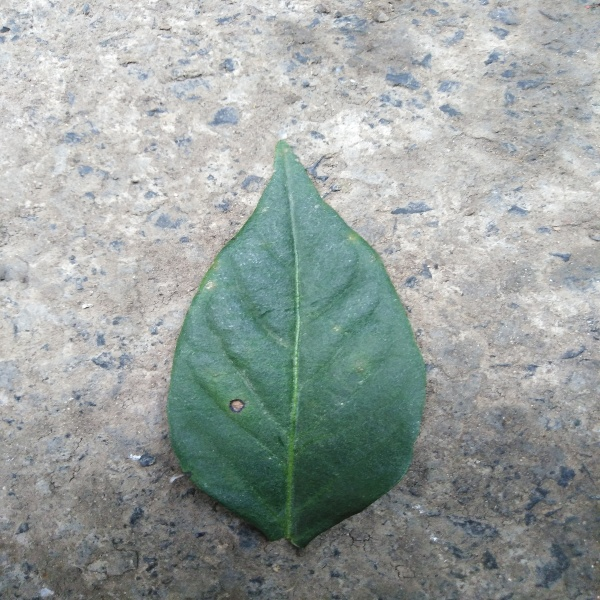Anthrax: (221, 389, 248, 418)
